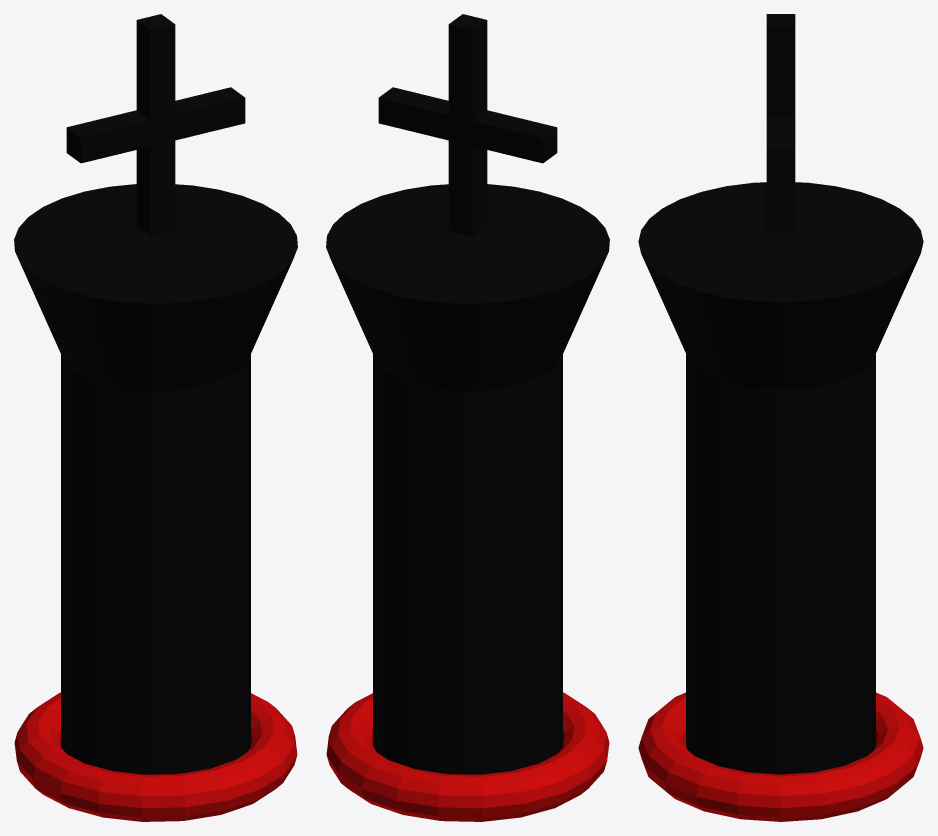
The model's file is BlackKing.obj.
3 renders of one model, left to right at view 1: azimuth 30°, elevation 25°; view 2: azimuth 150°, elevation 25°; view 3: azimuth 270°, elevation 25°, orthographic.
Visible parts, largest first — view 1: Cylinder_Cylinder.004, Cone.001, Torus.004, Cube, Cube.001; view 2: Cylinder_Cylinder.004, Cone.001, Torus.004, Cube, Cube.001; view 3: Cylinder_Cylinder.004, Cone.001, Torus.004, Cube, Cube.001.
Part boxes in pixels (x1,y1,x2,y2): Cylinder_Cylinder.004: [61, 354, 250, 774]; Cone.001: [14, 184, 297, 390]; Torus.004: [14, 692, 297, 821]; Cube: [136, 14, 175, 236]; Cube.001: [66, 87, 245, 163]; Cylinder_Cylinder.004: [373, 354, 562, 774]; Cone.001: [326, 184, 609, 390]; Torus.004: [326, 692, 609, 821]; Cube: [448, 14, 487, 236]; Cube.001: [378, 87, 557, 163]; Cylinder_Cylinder.004: [686, 354, 875, 774]; Cone.001: [638, 182, 923, 389]; Torus.004: [638, 692, 923, 821]; Cube: [766, 14, 795, 232]; Cube.001: [766, 116, 795, 176].
Bounding box in the file's own units: 0.6 × 1.74 × 0.6.
